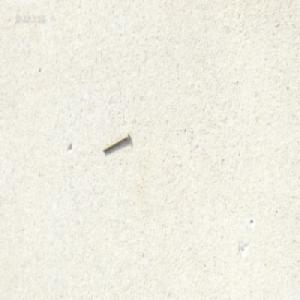Bolt: (102, 130, 129, 153)
